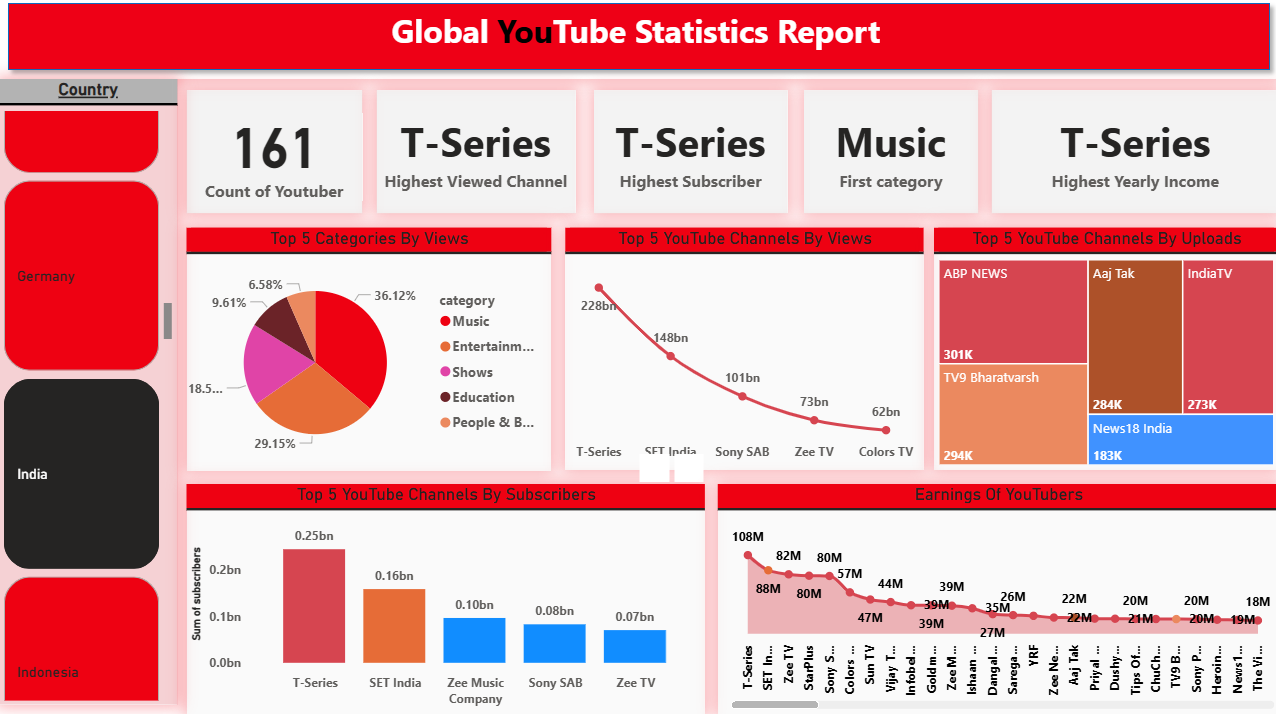

This screenshot's page, from the dashboard's own definition file:
{"tool":"powerbi","page":{"name":"Page 1","canvas":[1280,720],"ordinal":0},"visuals":[{"type":"shape","box":[0,0,1280,85],"z":0},{"type":"textbox","box":[387,9.6,518.7,75.5],"z":1},{"type":"card","fields":{"Values":["Global YouTube Statistics.Youtuber"]},"box":[188,96.1,175.6,123.5],"z":2},{"type":"card","fields":{"Values":["Global YouTube Statistics.Youtuber"]},"box":[377.4,96.1,199,123.5],"z":3},{"type":"card","fields":{"Values":["Global YouTube Statistics.Youtuber"]},"box":[595.5,96.1,193.5,123.5],"z":4},{"type":"card","fields":{"Values":["Global YouTube Statistics.category"]},"box":[805.5,96.1,174.3,123.5],"z":5},{"type":"card","fields":{"Values":["Global YouTube Statistics.Youtuber"]},"box":[992.1,96.1,288.2,123.5],"z":6},{"type":"advancedSlicerVisual","fields":{"Values":["Global YouTube Statistics.Country"]},"box":[0,85.1,178.4,625.7],"z":7},{"type":"pieChart","title":"Top 5 Categories By Views","fields":{"Y":["Global YouTube Statistics.video views"],"Category":["Global YouTube Statistics.category"]},"box":[188,233.3,365,242.9],"z":8},{"type":"lineChart","title":"Top 5 YouTube Channels By Views","fields":{"Category":["Global YouTube Statistics.Youtuber"],"Y":["Global YouTube Statistics.video views"]},"box":[566.2,233.8,358.8,242.5],"z":9},{"type":"treemap","title":"Top 5 YouTube Channels By Uploads","fields":{"Group":["Global YouTube Statistics.Youtuber"],"Values":["Global YouTube Statistics.uploads"]},"box":[935,233.8,345,242.5],"z":10},{"type":"columnChart","title":"Top 5 YouTube Channels By Subscribers","fields":{"Category":["Global YouTube Statistics.Youtuber"],"Y":["Global YouTube Statistics.subscribers"]},"box":[187.5,490,518.8,230],"z":11},{"type":"areaChart","title":"Earnings Of YouTubers","fields":{"Category":["Global YouTube Statistics.Youtuber"],"Y":["Global YouTube Statistics.highest_yearly_earnings"]},"box":[718.3,490,561.7,230],"z":12}]}

Visuals, with their boxes in screenshot pixels (x1, y1, x2, y2), scaled from the page's 1280x720 canvas onto the 1276x720 screenshot:
shape: [0, 0, 1275, 85]
textbox: [386, 10, 903, 85]
card - Global YouTube Statistics.Youtuber: [187, 96, 362, 220]
card - Global YouTube Statistics.Youtuber: [376, 96, 575, 220]
card - Global YouTube Statistics.Youtuber: [594, 96, 787, 220]
card - Global YouTube Statistics.category: [803, 96, 977, 220]
card - Global YouTube Statistics.Youtuber: [989, 96, 1275, 220]
advancedSlicerVisual - Global YouTube Statistics.Country: [0, 85, 178, 711]
"Top 5 Categories By Views" pieChart: [187, 233, 551, 476]
"Top 5 YouTube Channels By Views" lineChart: [564, 234, 922, 476]
"Top 5 YouTube Channels By Uploads" treemap: [932, 234, 1275, 476]
"Top 5 YouTube Channels By Subscribers" columnChart: [187, 490, 704, 719]
"Earnings Of YouTubers" areaChart: [716, 490, 1275, 719]
